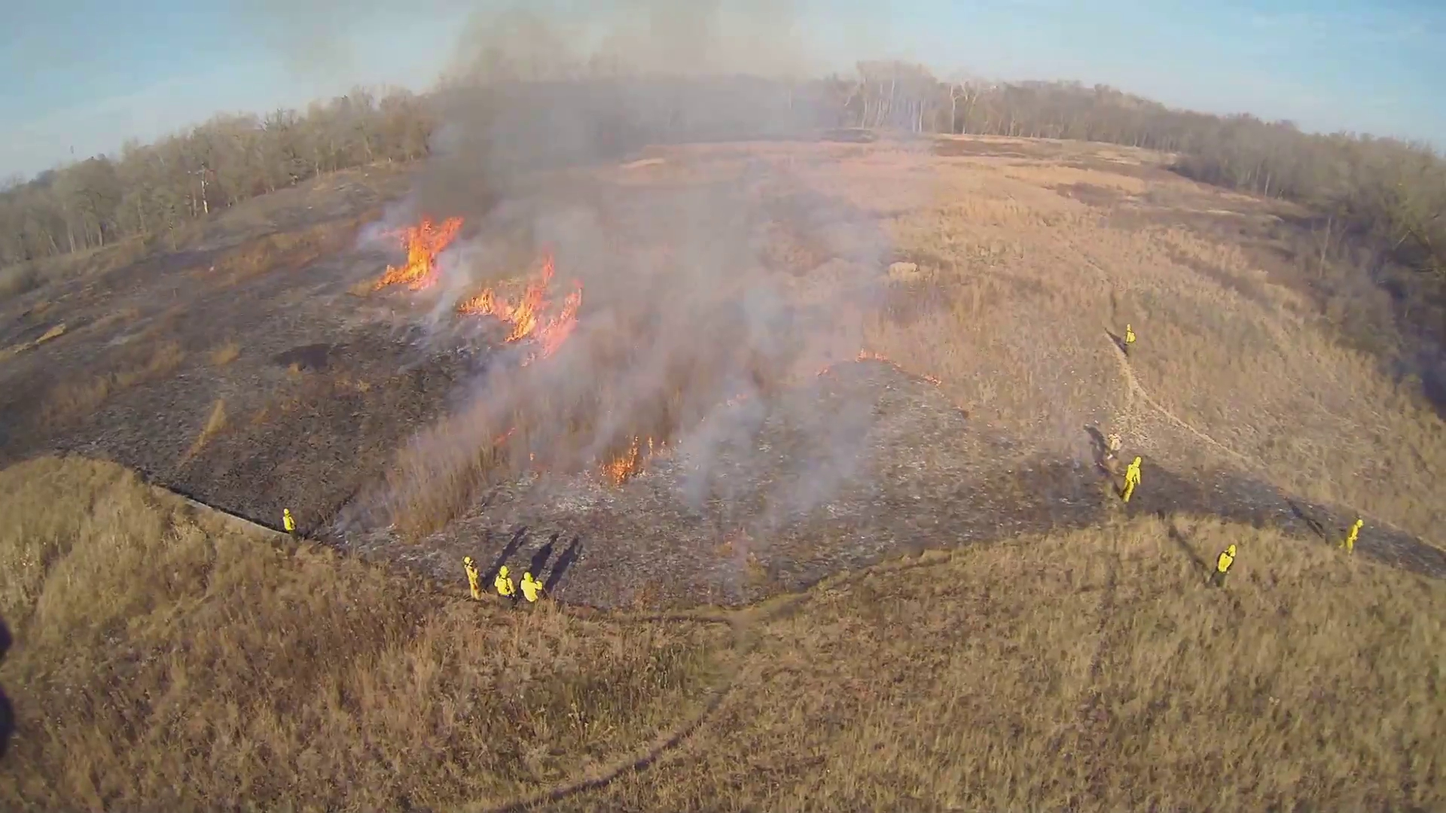forest_fire: (456, 254, 581, 364), (374, 218, 462, 290), (602, 437, 660, 483)
